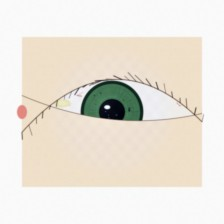pinguecula_lesion: (44, 89, 80, 118)
